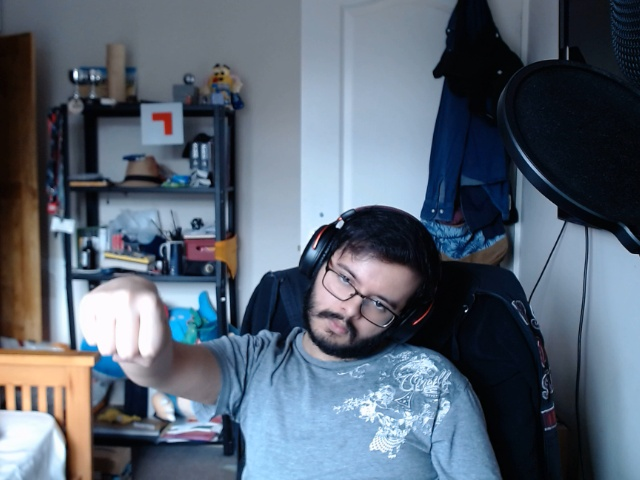Yes: (70, 260, 181, 368)
